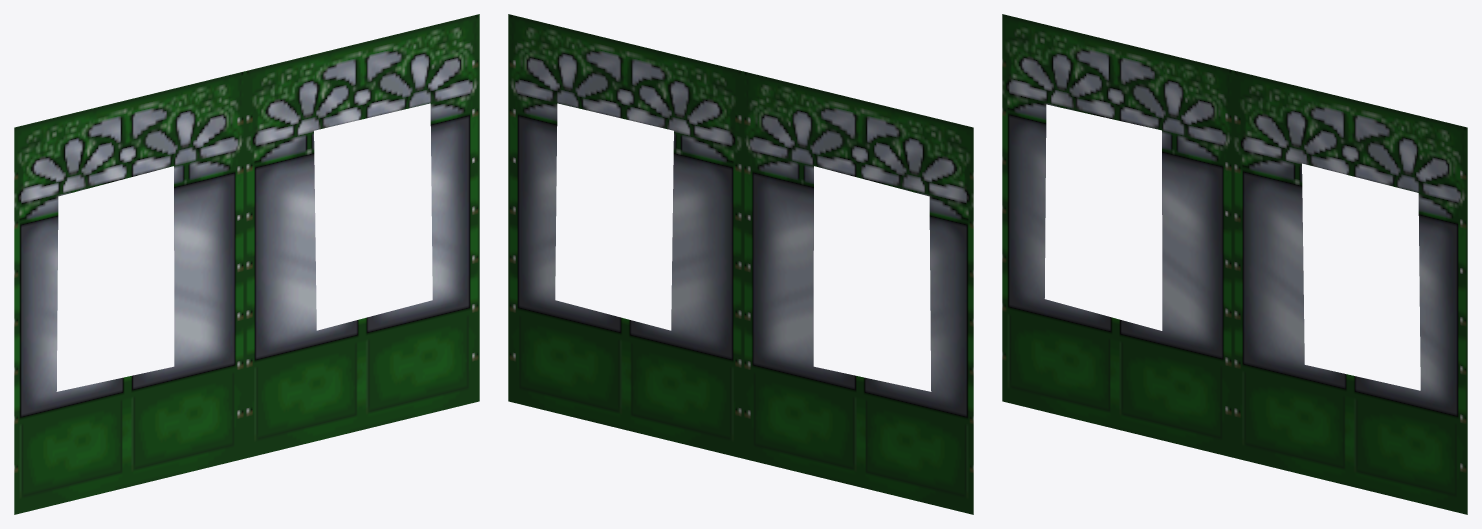
File: W_AI1_ff [GrünesMetall]_315.glb
The picture shows the model from 3 angles, left to right: view 1: azimuth 30°, elevation 25°; view 2: azimuth 150°, elevation 25°; view 3: azimuth 330°, elevation 25°; orthographic projection.
Visible parts, largest first — view 1: pPlaneShape1; view 2: pPlaneShape1; view 3: pPlaneShape1.
Part boxes in pixels (bbox=[...]): pPlaneShape1: bbox=[14, 14, 479, 514]; pPlaneShape1: bbox=[508, 14, 973, 514]; pPlaneShape1: bbox=[1002, 14, 1467, 514].
Bounding box in the file's own units: 0.4385 × 0.3486 × 1.34e-07.
1 material, 1 textured.
